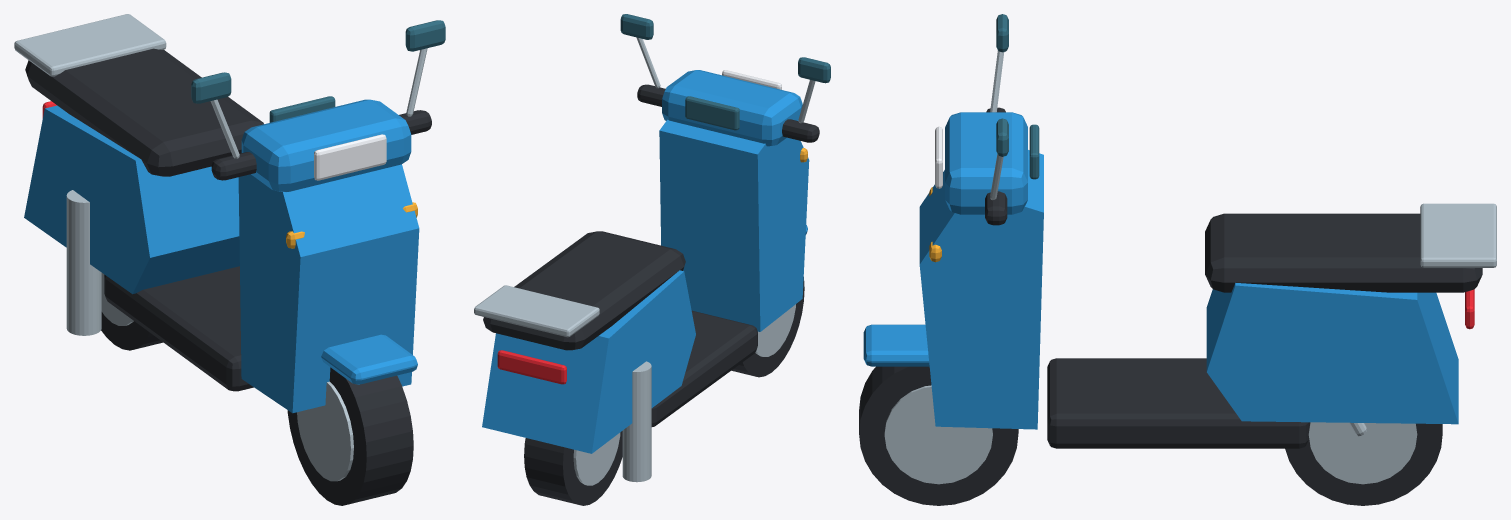
File: taiwan-scooter-blue.glb
3 renders of one model, left to right at view 1: azimuth 30°, elevation 25°; view 2: azimuth 150°, elevation 25°; view 3: azimuth 270°, elevation 25°, orthographic. The views are drawn at different scales.
Parts seen in each view (by area): view 1: Front fairing, Rear body, Two-place saddle, Step-through floor, Scooter tyre.001, Handlebar nacelle, Rear rack, Exhaust, Scooter alloy.002, Front fender, Headlamp, Scooter tyre (+8 smaller); view 2: Front fairing, Rear body, Two-place saddle, Handlebar nacelle, Step-through floor, Rear rack, Scooter tyre, Exhaust, Rear light, Scooter alloy, Scooter tyre.001, Instrument panel (+6 smaller); view 3: Rear body, Front fairing, Step-through floor, Two-place saddle, Scooter tyre.001, Handlebar nacelle, Scooter alloy.003, Scooter alloy.001, Rear rack, Scooter tyre, Front fender.
Boxes of the visible parts, x1=… form: Front fairing: x1=238, y1=164, x2=419, y2=413; Rear body: x1=24, y1=105, x2=239, y2=294; Two-place saddle: x1=25, y1=48, x2=263, y2=176; Step-through floor: x1=104, y1=266, x2=253, y2=391; Scooter tyre.001: x1=287, y1=367, x2=413, y2=505; Handlebar nacelle: x1=241, y1=99, x2=411, y2=192; Rear rack: x1=14, y1=14, x2=166, y2=76; Exhaust: x1=66, y1=190, x2=101, y2=335; Scooter alloy.002: x1=297, y1=381, x2=353, y2=481; Front fender: x1=321, y1=334, x2=417, y2=384; Headlamp: x1=314, y1=134, x2=386, y2=180; Scooter tyre: x1=101, y1=312, x2=162, y2=350; Front fairing: x1=659, y1=119, x2=809, y2=331; Rear body: x1=482, y1=270, x2=695, y2=453; Two-place saddle: x1=483, y1=231, x2=685, y2=350; Handlebar nacelle: x1=662, y1=70, x2=802, y2=146; Step-through floor: x1=651, y1=310, x2=757, y2=426; Rear rack: x1=474, y1=285, x2=599, y2=337; Scooter tyre: x1=524, y1=431, x2=622, y2=505; Exhaust: x1=622, y1=361, x2=651, y2=482; Rear light: x1=497, y1=350, x2=566, y2=384; Scooter alloy: x1=573, y1=432, x2=620, y2=485; Scooter tyre.001: x1=731, y1=277, x2=804, y2=377; Instrument panel: x1=685, y1=96, x2=739, y2=130; Rear body: x1=1206, y1=283, x2=1458, y2=424; Front fairing: x1=919, y1=150, x2=1043, y2=429; Step-through floor: x1=1047, y1=358, x2=1308, y2=448; Two-place saddle: x1=1205, y1=213, x2=1482, y2=292; Scooter tyre.001: x1=859, y1=366, x2=1018, y2=505; Handlebar nacelle: x1=945, y1=112, x2=1027, y2=214; Scooter alloy.003: x1=884, y1=385, x2=992, y2=484; Scooter alloy.001: x1=1308, y1=422, x2=1417, y2=484; Rear rack: x1=1420, y1=203, x2=1496, y2=267; Scooter tyre: x1=1285, y1=422, x2=1442, y2=505; Front fender: x1=863, y1=324, x2=929, y2=366.
Bounding box in the file's own units: 0.915 × 1.46 × 2.
